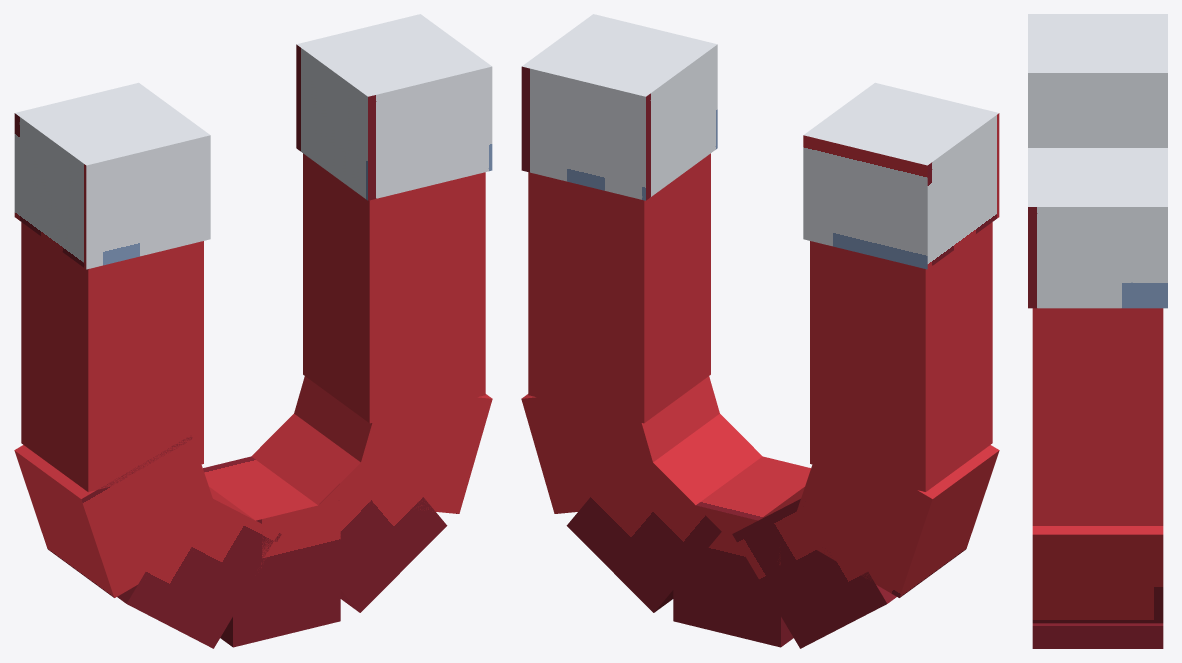
Rendered from magnet.glb.
3 renders of one model, left to right at view 1: azimuth 30°, elevation 25°; view 2: azimuth 150°, elevation 25°; view 3: azimuth 270°, elevation 25°, orthographic. The views are drawn at different scales.
Parts seen in each view (by area): view 1: magnet; view 2: magnet; view 3: magnet.
Part boxes in pixels (x1,y1,x2,y2): magnet: (14, 14, 492, 648); magnet: (521, 14, 999, 648); magnet: (1028, 14, 1167, 648).
Bounding box in the file's own units: 0.4967 × 0.6 × 0.15.
Materials: 1 (1 with a texture image).
